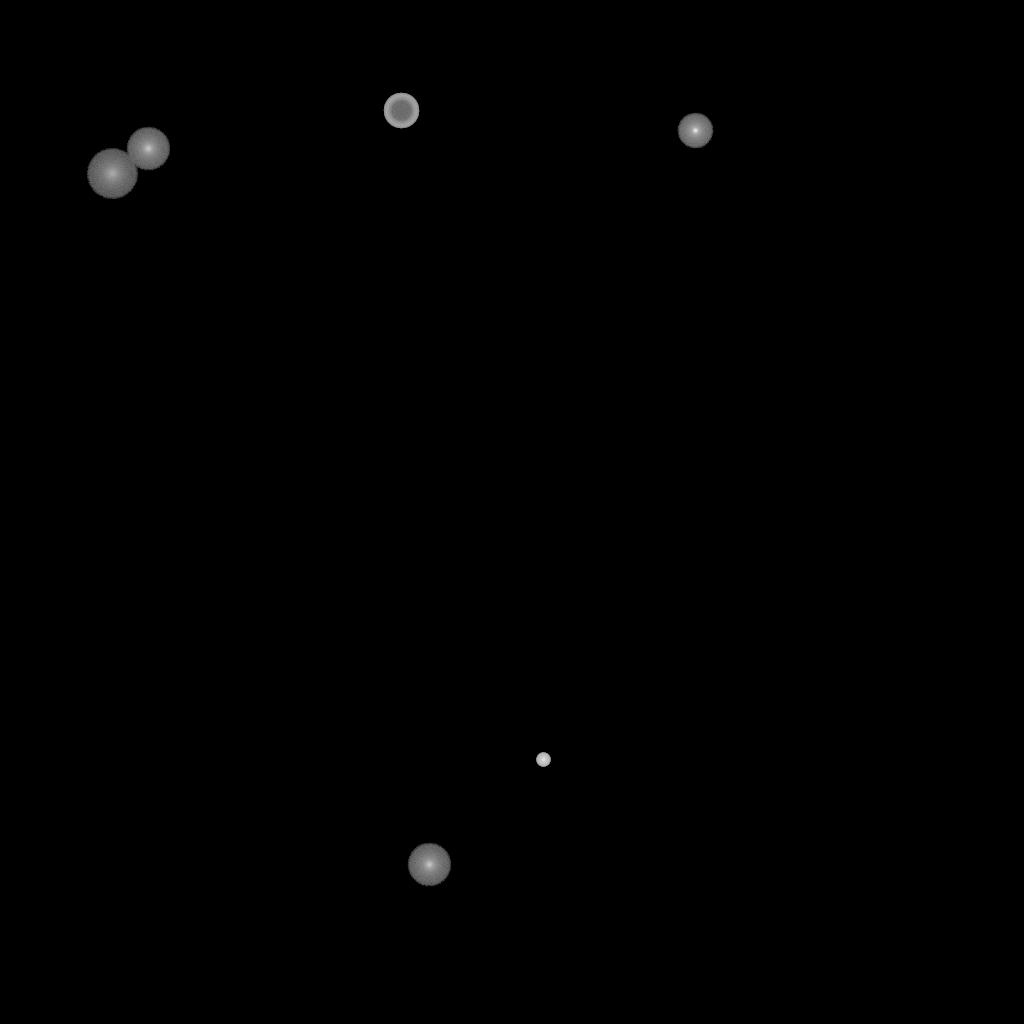depth:-30: (536, 753, 550, 767)
depth:-60: (383, 93, 419, 129)
depth:0: (677, 113, 713, 149)
depth:10: (126, 127, 170, 171), (407, 843, 451, 887)
depth:20: (86, 149, 138, 199)
